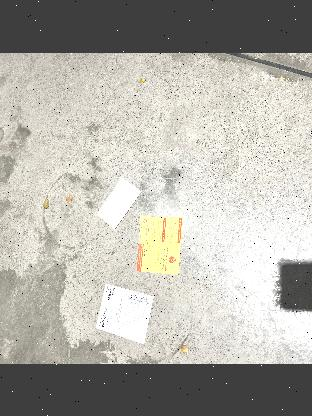Others: (91, 278, 157, 350), (138, 206, 188, 286), (95, 169, 141, 237)
